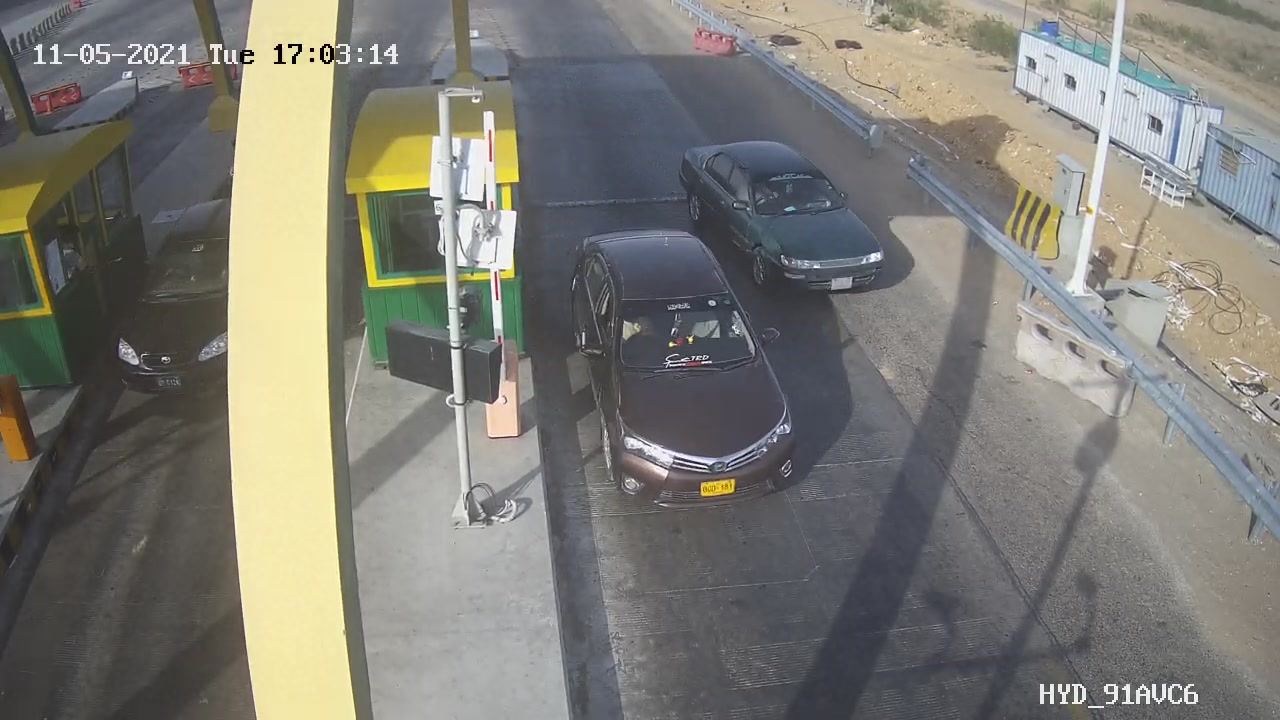F1: (547, 212, 822, 525), (663, 125, 903, 312)
